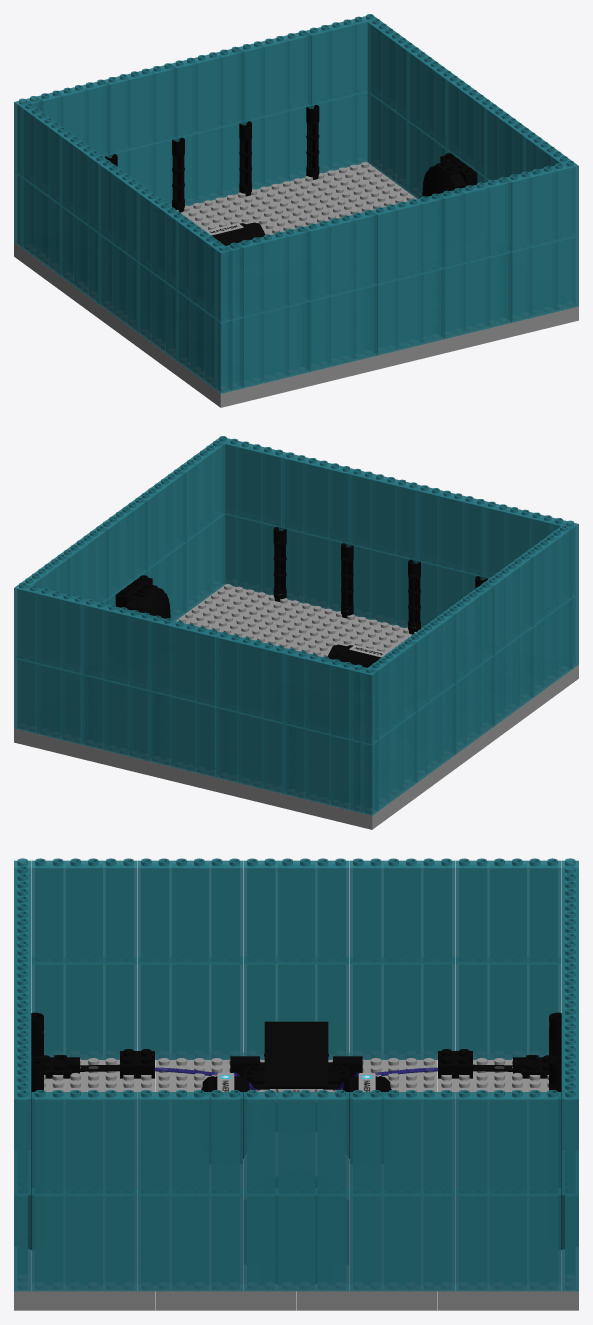
File: ROOM.dae
3 views of the same model, one above another, from view 1: azimuth 30°, elevation 25°; view 2: azimuth 150°, elevation 25°; view 3: azimuth 270°, elevation 25° (orthographic). The views are drawn at different scales.
Visible parts, largest first — view 1: Part_4204.1, Part_3754.67, Part_3754.69, Part_3754.84, Part_3754.71, Part_3754.83, Part_3754.70, Part_3754.68, Part_3754.82, Part_3754.11, Part_3754.10, Part_3754.12 (+41 smaller); view 2: Part_4204.4, Part_3754.68, Part_3754.83, Part_3754.85, Part_3754.81, Part_3754.69, Part_3754.82, Part_3754.84, Part_3754.70, Part_3754.16, Part_3754.15, Part_3754.17 (+41 smaller); view 3: Part_3754.86, Part_3754.87, Part_3754.88, Part_3754.89, Part_3754.90, Part_3754.75, Part_3754.76, Part_3754.77, Part_3754.74, Part_3754.78, Part_3754.19, Part_3754.20 (+35 smaller).
Part boxes in pixels (x1=…): Part_4204.1: x1=200, y1=161, x2=411, y2=230; Part_3754.67: x1=506, y1=160, x2=578, y2=252; Part_3754.69: x1=372, y1=193, x2=444, y2=285; Part_3754.84: x1=238, y1=30, x2=311, y2=121; Part_3754.71: x1=237, y1=226, x2=310, y2=317; Part_3754.83: x1=171, y1=46, x2=244, y2=138; Part_3754.70: x1=304, y1=210, x2=377, y2=301; Part_3754.68: x1=439, y1=177, x2=511, y2=268; Part_3754.82: x1=104, y1=63, x2=176, y2=154; Part_3754.11: x1=377, y1=269, x2=444, y2=355; Part_3754.10: x1=444, y1=252, x2=511, y2=338; Part_3754.12: x1=310, y1=285, x2=377, y2=371; Part_4204.4: x1=181, y1=584, x2=392, y2=652; Part_3754.68: x1=281, y1=452, x2=354, y2=543; Part_3754.83: x1=148, y1=615, x2=220, y2=707; Part_3754.85: x1=14, y1=582, x2=86, y2=674; Part_3754.81: x1=282, y1=648, x2=355, y2=739; Part_3754.69: x1=348, y1=468, x2=421, y2=560; Part_3754.82: x1=215, y1=632, x2=288, y2=723; Part_3754.84: x1=81, y1=599, x2=153, y2=690; Part_3754.70: x1=416, y1=485, x2=488, y2=576; Part_3754.16: x1=148, y1=691, x2=215, y2=777; Part_3754.15: x1=81, y1=674, x2=148, y2=760; Part_3754.17: x1=215, y1=707, x2=282, y2=793; Part_3754.86: x1=31, y1=1090, x2=137, y2=1195; Part_3754.87: x1=137, y1=1090, x2=243, y2=1195; Part_3754.88: x1=243, y1=1090, x2=349, y2=1195; Part_3754.89: x1=349, y1=1090, x2=455, y2=1195; Part_3754.90: x1=455, y1=1090, x2=561, y2=1195; Part_3754.75: x1=137, y1=858, x2=243, y2=963; Part_3754.76: x1=243, y1=858, x2=349, y2=963; Part_3754.77: x1=349, y1=858, x2=455, y2=963; Part_3754.74: x1=31, y1=858, x2=137, y2=963; Part_3754.78: x1=455, y1=858, x2=561, y2=963; Part_3754.19: x1=31, y1=1195, x2=137, y2=1291; Part_3754.20: x1=137, y1=1195, x2=243, y2=1291.
Size of the model in its own units: 256 by 107 by 256.
